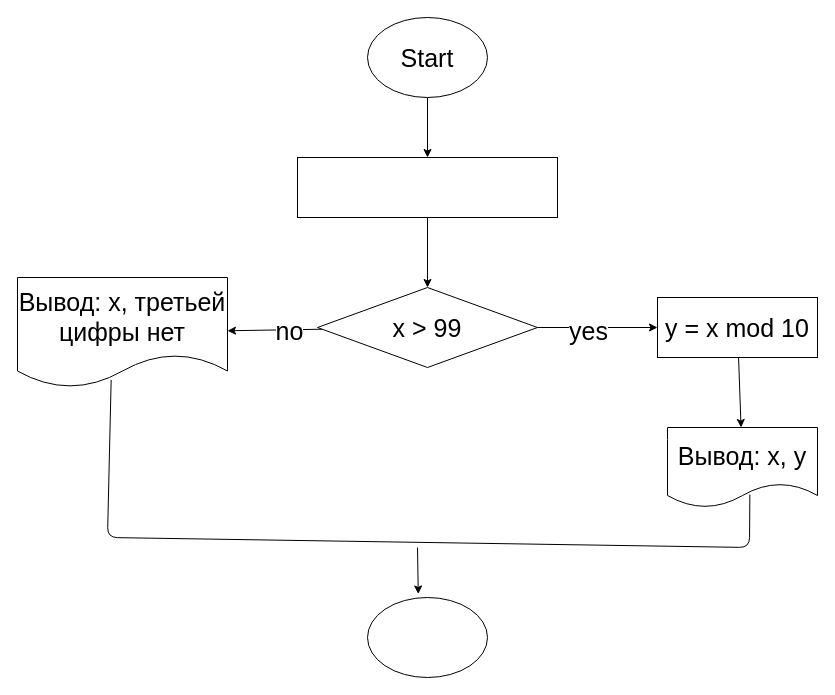
This 835x695 diagram has some shape labels left out. Each missing label, with the centre of its shape:
"End" goes at point 427,637.
"x = random (10, 999)" goes at point 427,187.
